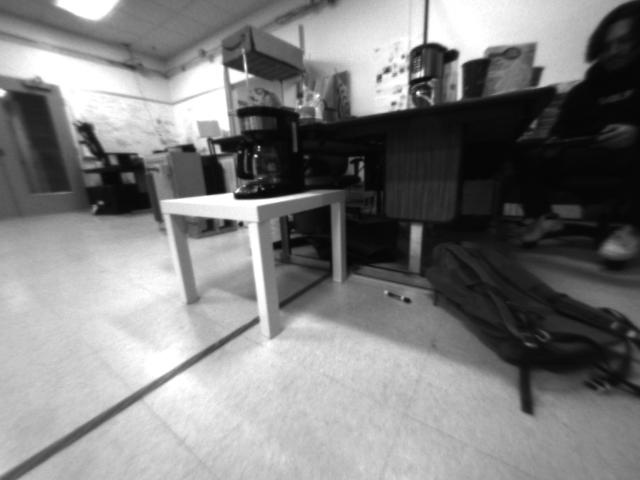coffee_pot: (232, 104, 306, 199)
